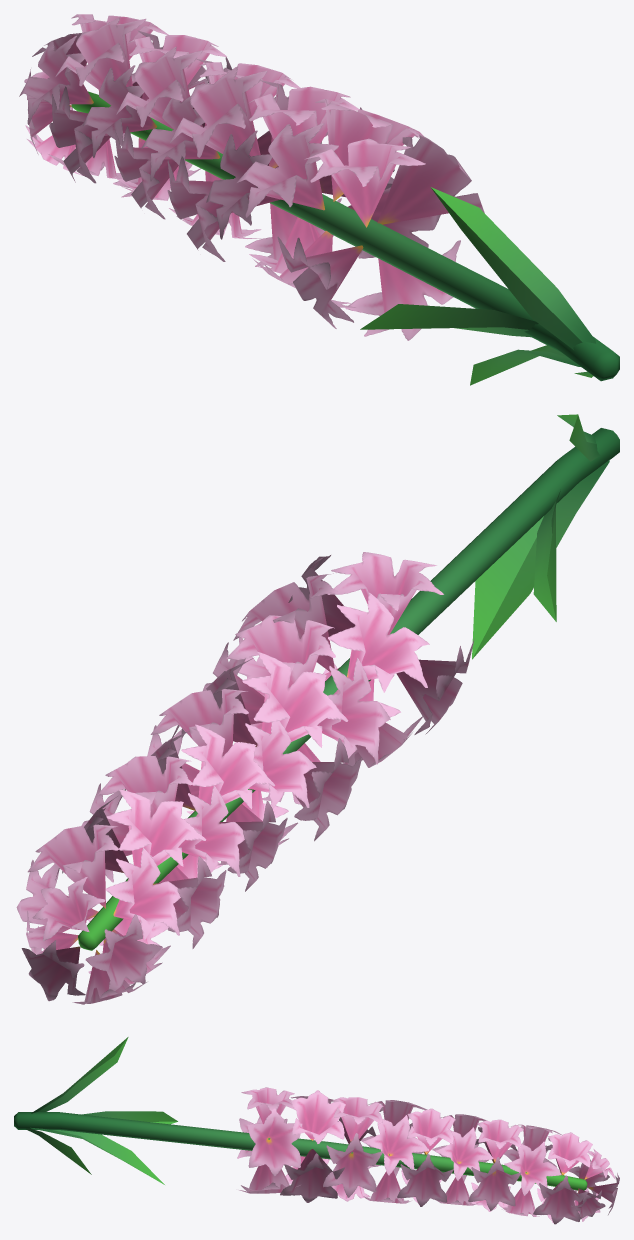
The model's file is SM_Hyacinth_PastellPink_Big.fbx.
The picture shows the model from 3 angles, top to bottom: view 1: azimuth 30°, elevation 25°; view 2: azimuth 150°, elevation 25°; view 3: azimuth 270°, elevation 25°; orthographic projection. The views are drawn at different scales.
Visible parts, largest first — view 1: Hyacinth_PastellPink_Big; view 2: Hyacinth_PastellPink_Big; view 3: Hyacinth_PastellPink_Big.
Part boxes in pixels (x1=…): Hyacinth_PastellPink_Big: x1=19, y1=14, x2=619, y2=385; Hyacinth_PastellPink_Big: x1=16, y1=414, x2=619, y2=1004; Hyacinth_PastellPink_Big: x1=14, y1=1037, x2=619, y2=1224.
Bounding box in the file's own units: 33.29 × 49.9 × 166.
